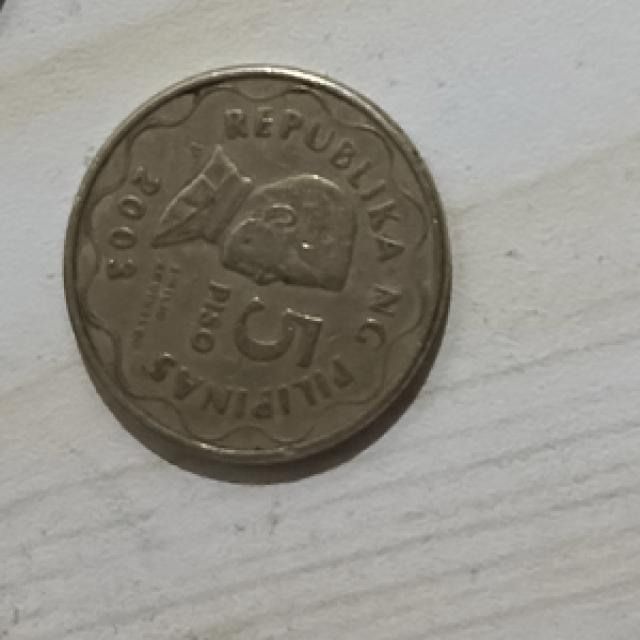5_peso: (66, 68, 448, 463)
